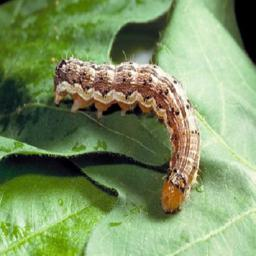Tobacco_budworm: (54, 56, 201, 214)
